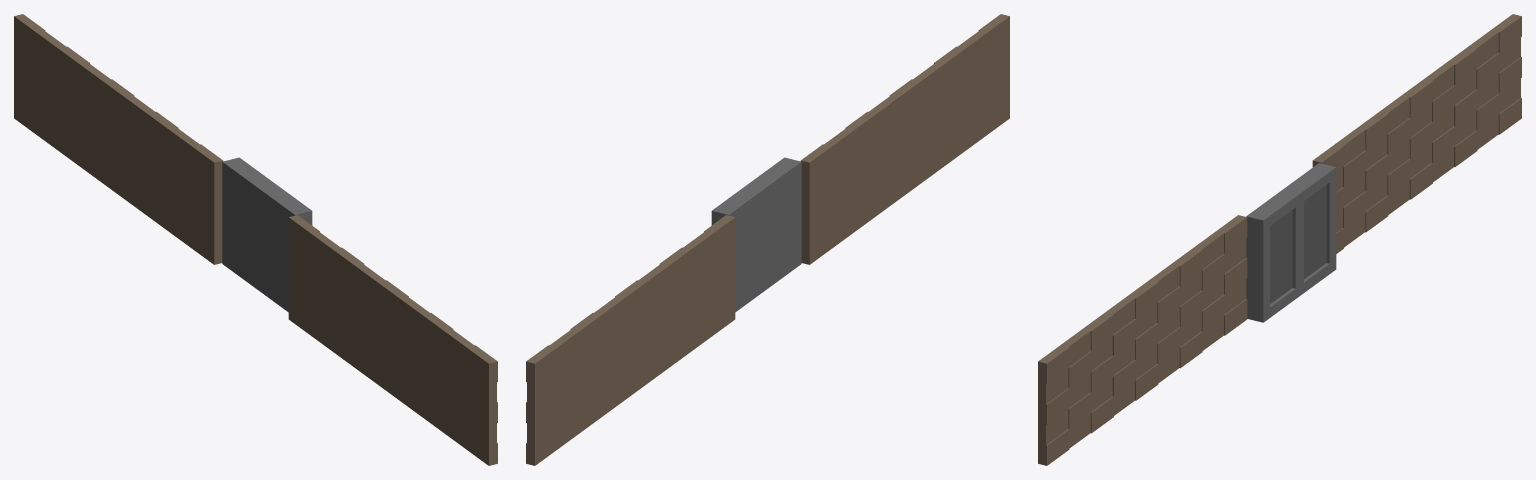
File: Gate.fbx
The picture shows the model from 3 angles, left to right: view 1: azimuth 30°, elevation 25°; view 2: azimuth 150°, elevation 25°; view 3: azimuth 330°, elevation 25°; orthographic projection.
Visible parts, largest first — view 1: Cube.003, Cube.001, Cube, Cube.002; view 2: Cube.001, Cube.003, Cube.002, Cube; view 3: Cube.003, Cube.001, Cube.002, Cube.
Boxes of the visible parts, <box> form: Cube.003: <box>288,215,497,465</box>; Cube.001: <box>14,14,223,264</box>; Cube: <box>222,157,275,290</box>; Cube.002: <box>258,184,312,312</box>; Cube.001: <box>526,215,735,465</box>; Cube.003: <box>800,14,1009,264</box>; Cube.002: <box>748,157,801,290</box>; Cube: <box>711,184,765,312</box>; Cube.003: <box>1038,215,1247,465</box>; Cube.001: <box>1312,14,1521,253</box>; Cube.002: <box>1246,189,1299,322</box>; Cube: <box>1283,163,1336,295</box>.
Bounding box in the file's own units: 2.64 × 10.57 × 88.82.
